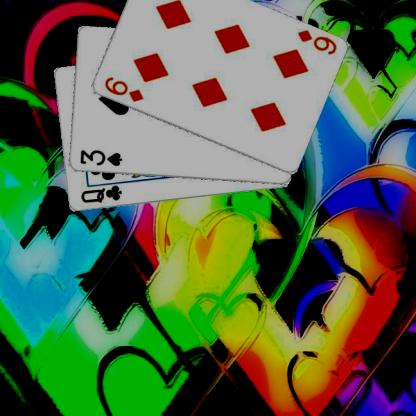3S: (77, 148, 123, 168)
6D: (294, 27, 338, 56), (101, 74, 144, 103)
QC: (78, 183, 123, 205)
